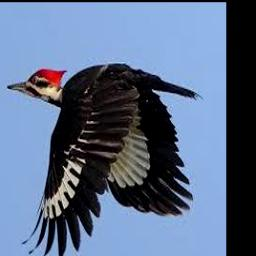Woodpecker: (8, 62, 204, 256)
